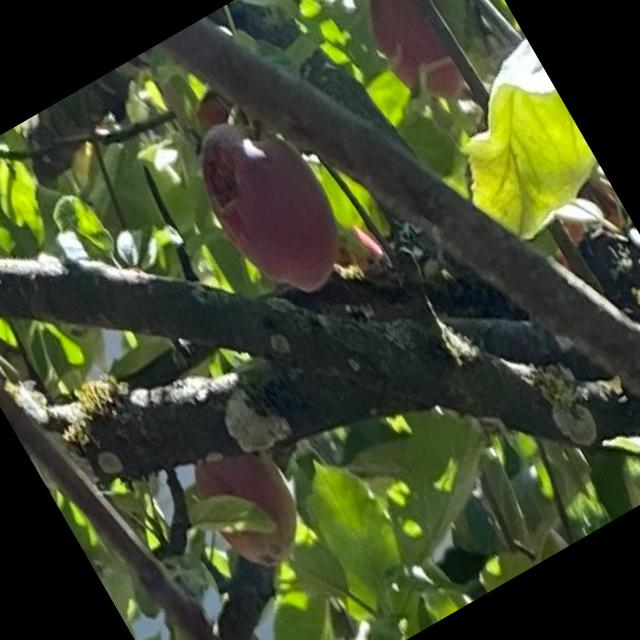Apples: (180, 100, 362, 311), (184, 426, 318, 574), (354, 0, 477, 115)
